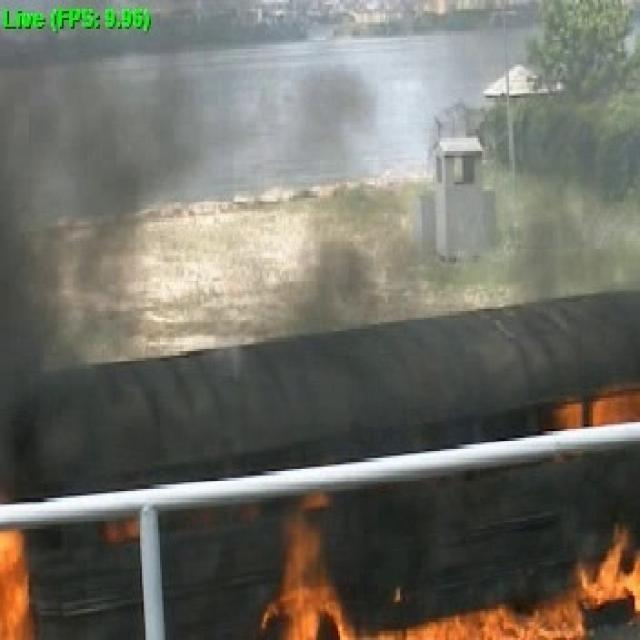Fire: (263, 506, 638, 640), (4, 529, 31, 634)
Smoke: (5, 34, 166, 383), (512, 82, 640, 293)
